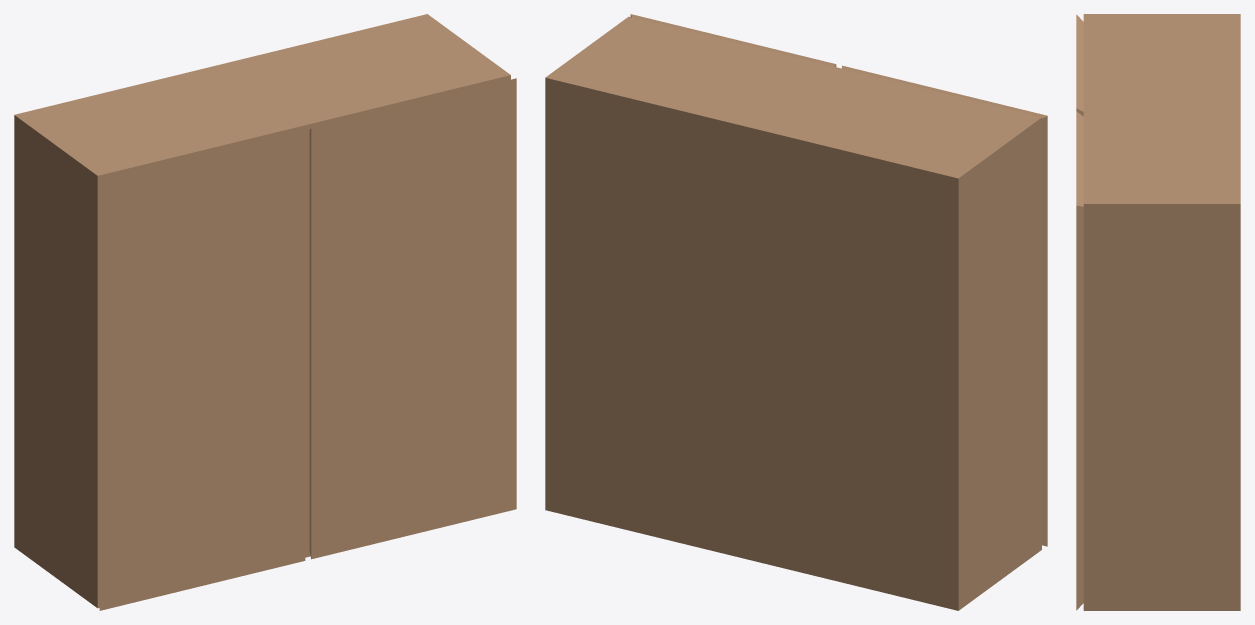
File: cabinet.gltf
3 views of the same model, side by side, from view 1: azimuth 30°, elevation 25°; view 2: azimuth 150°, elevation 25°; view 3: azimuth 270°, elevation 25° (orthographic). The views are drawn at different scales.
Parts seen in each view (by area): view 1: Cube; view 2: Cube; view 3: Cube.
Part boxes in pixels (box(x1,y1,x2,y2)): Cube: box(14, 14, 516, 610); Cube: box(545, 14, 1047, 610); Cube: box(1076, 14, 1240, 610).
Bounding box in the file's own units: 1.03 × 1.02 × 0.3726.
Materials: 1 (1 with a texture image).
